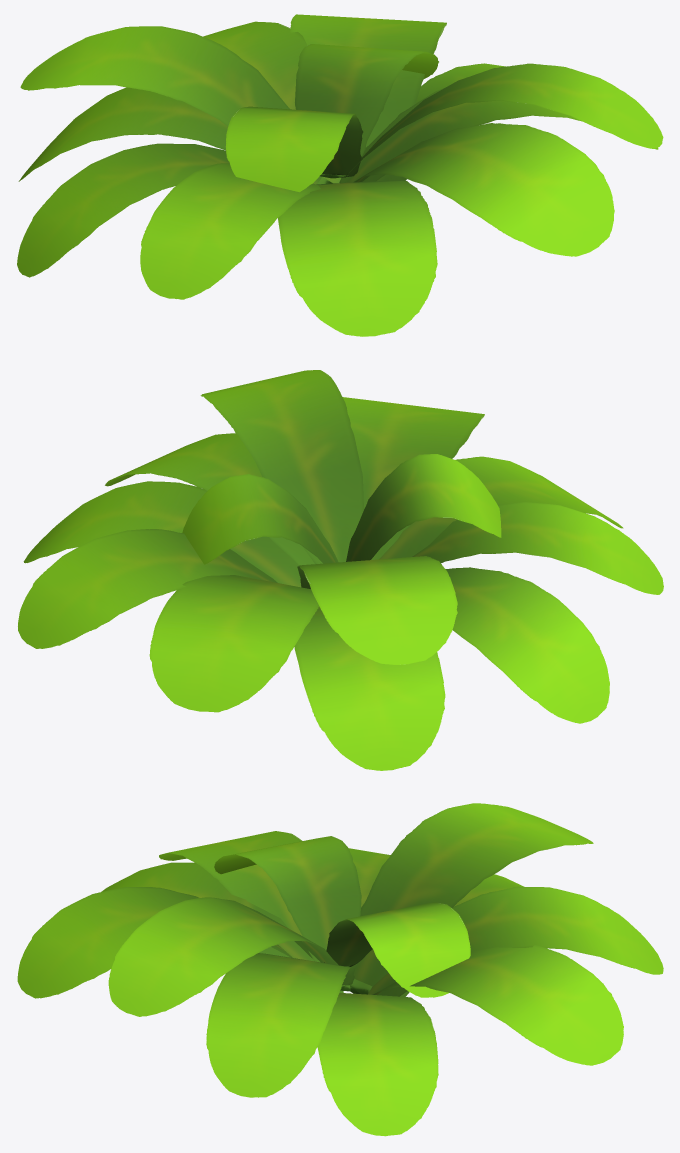
File: Grass_Rounded03.fbx
3 views of the same model, one above another, from view 1: azimuth 30°, elevation 25°; view 2: azimuth 150°, elevation 25°; view 3: azimuth 270°, elevation 25° (orthographic). The views are drawn at different scales.
Visible parts, largest first — view 1: Plane.032; view 2: Plane.032; view 3: Plane.032.
Boxes of the visible parts, bbox=[...] form: Plane.032: bbox=[17, 14, 663, 336]; Plane.032: bbox=[18, 370, 663, 770]; Plane.032: bbox=[17, 803, 663, 1136].
Bounding box in the file's own units: 156 × 42.67 × 156.
1 material, 1 textured.
